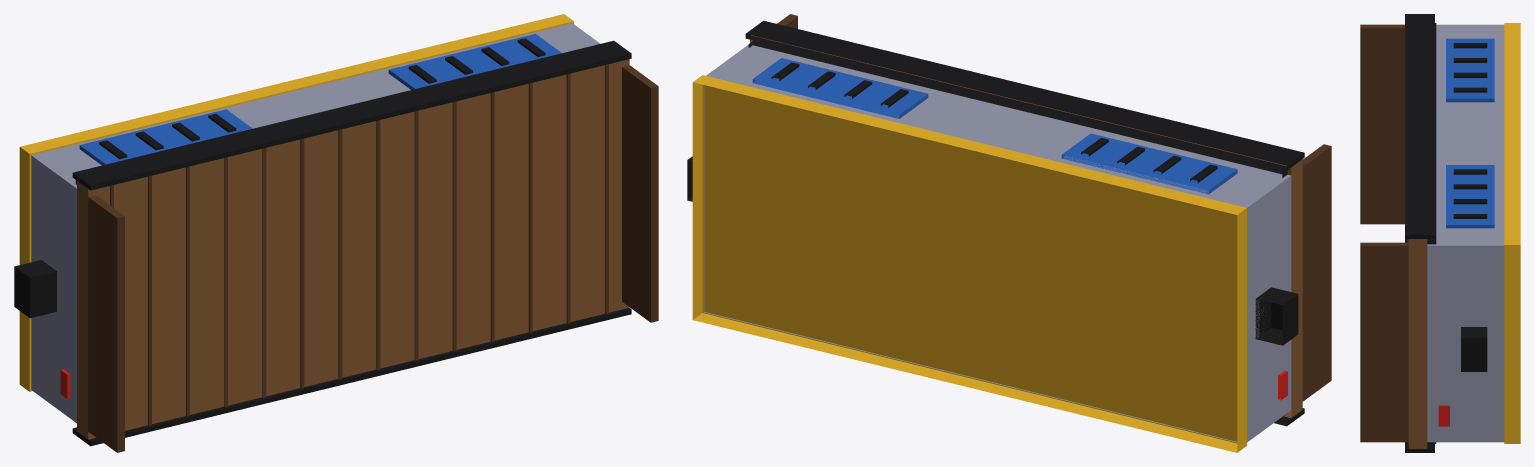
File: empty.glb
3 views of the same model, side by side, from view 1: azimuth 30°, elevation 25°; view 2: azimuth 150°, elevation 25°; view 3: azimuth 270°, elevation 25° (orthographic). The views are drawn at different scales.
Parts seen in each view (by area): view 1: empty_deck, empty_base, empty_side1_-3.50_1.90, empty_bulkhead-1, empty_bulkhead1, empty_stripe, empty_side-1_-3.50_1.90, empty_pod11, empty_pod10, empty_coupler-1, empty_plank5, empty_plank6 (+11 smaller); view 2: empty_stripe, empty_base, empty_side1_-3.50_1.90, empty_bulkhead-1, empty_pod11, empty_pod10, empty_deck, empty_base_lip, empty_coupler-1; view 3: empty_base, empty_bulkhead1, empty_bulkhead-1, empty_stripe, empty_side1_-3.50_1.90, empty_deck, empty_pod10, empty_pod11, empty_coupler1, empty_base_lip, empty_end_lamp1, empty_grille110 (+6 smaller).
Part boxes in pixels (x1=…): empty_deck: x1=77, y1=59, x2=629, y2=439; empty_base: x1=31, y1=23, x2=600, y2=422; empty_side1_-3.50_1.90: x1=72, y1=40, x2=631, y2=190; empty_bulkhead-1: x1=88, y1=195, x2=124, y2=452; empty_bulkhead1: x1=622, y1=65, x2=658, y2=322; empty_stripe: x1=19, y1=14, x2=573, y2=391; empty_side-1_-3.50_1.90: x1=72, y1=308, x2=631, y2=446; empty_pod11: x1=388, y1=34, x2=561, y2=89; empty_pod10: x1=79, y1=109, x2=252, y2=165; empty_coupler-1: x1=14, y1=260, x2=56, y2=318; empty_plank5: x1=300, y1=138, x2=304, y2=388; empty_plank6: x1=338, y1=129, x2=342, y2=379; empty_stripe: x1=692, y1=75, x2=1246, y2=452; empty_base: x1=703, y1=45, x2=1291, y2=442; empty_side1_-3.50_1.90: x1=745, y1=20, x2=1304, y2=170; empty_bulkhead-1: x1=1302, y1=144, x2=1331, y2=401; empty_pod11: x1=752, y1=58, x2=928, y2=118; empty_pod10: x1=1061, y1=133, x2=1237, y2=194; empty_deck: x1=750, y1=35, x2=1302, y2=418; empty_base_lip: x1=748, y1=40, x2=1287, y2=416; empty_coupler-1: x1=1255, y1=287, x2=1298, y2=345; empty_base: x1=1427, y1=24, x2=1504, y2=442; empty_bulkhead1: x1=1360, y1=242, x2=1408, y2=442; empty_bulkhead-1: x1=1360, y1=24, x2=1404, y2=224; empty_stripe: x1=1504, y1=23, x2=1520, y2=443; empty_side1_-3.50_1.90: x1=1405, y1=14, x2=1434, y2=238; empty_deck: x1=1408, y1=239, x2=1427, y2=448; empty_pod10: x1=1446, y1=38, x2=1494, y2=102; empty_pod11: x1=1446, y1=165, x2=1494, y2=228; empty_coupler1: x1=1461, y1=327, x2=1487, y2=371; empty_base_lip: x1=1427, y1=23, x2=1436, y2=443; empty_end_lamp1: x1=1438, y1=405, x2=1449, y2=426; empty_grille110: x1=1453, y1=169, x2=1487, y2=174.
Size of the model in its own units: 7.7 by 3.22 by 2.15.
